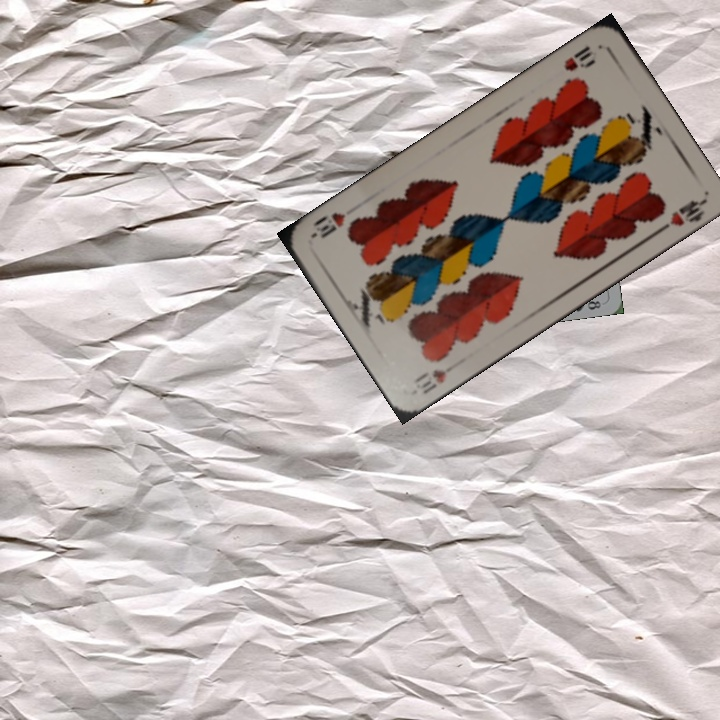H10: (560, 41, 598, 74), (410, 365, 449, 397)
